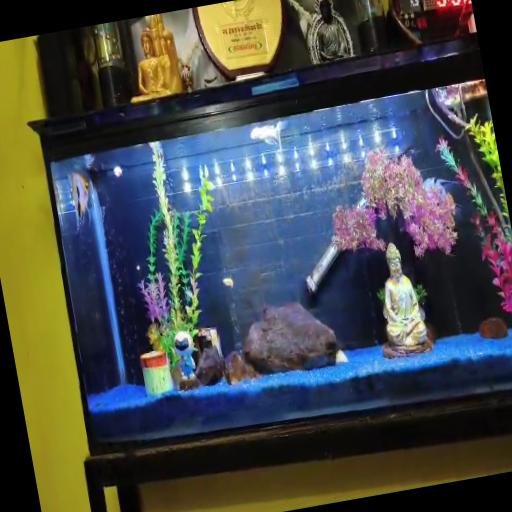Fish: (70, 172, 90, 235), (251, 121, 284, 150), (423, 177, 457, 199), (423, 177, 455, 197), (356, 197, 367, 210), (223, 277, 233, 287)
